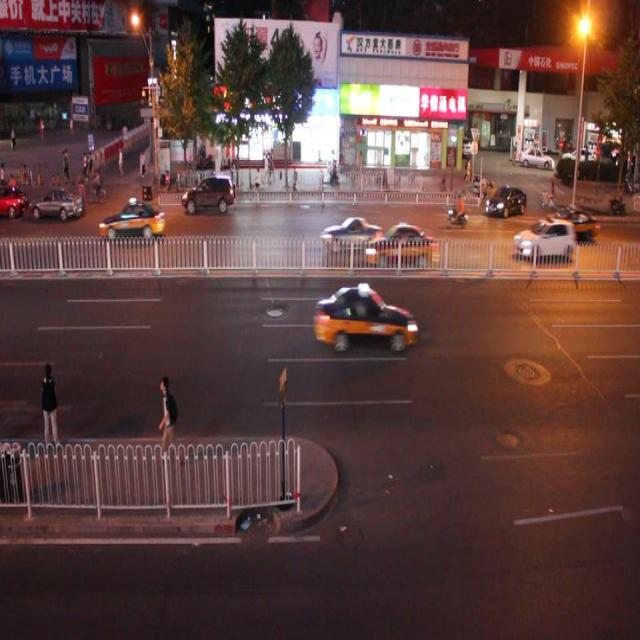car: (313, 282, 416, 352), (363, 222, 434, 268), (512, 216, 574, 264), (98, 200, 166, 241), (319, 214, 383, 253), (180, 174, 234, 218), (29, 186, 83, 228), (539, 205, 600, 241), (484, 183, 526, 219)
